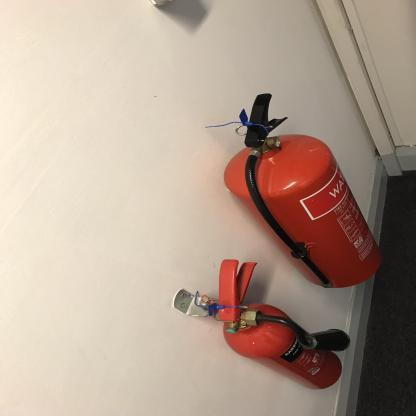Fire Extinguisher: (167, 71, 388, 403)
